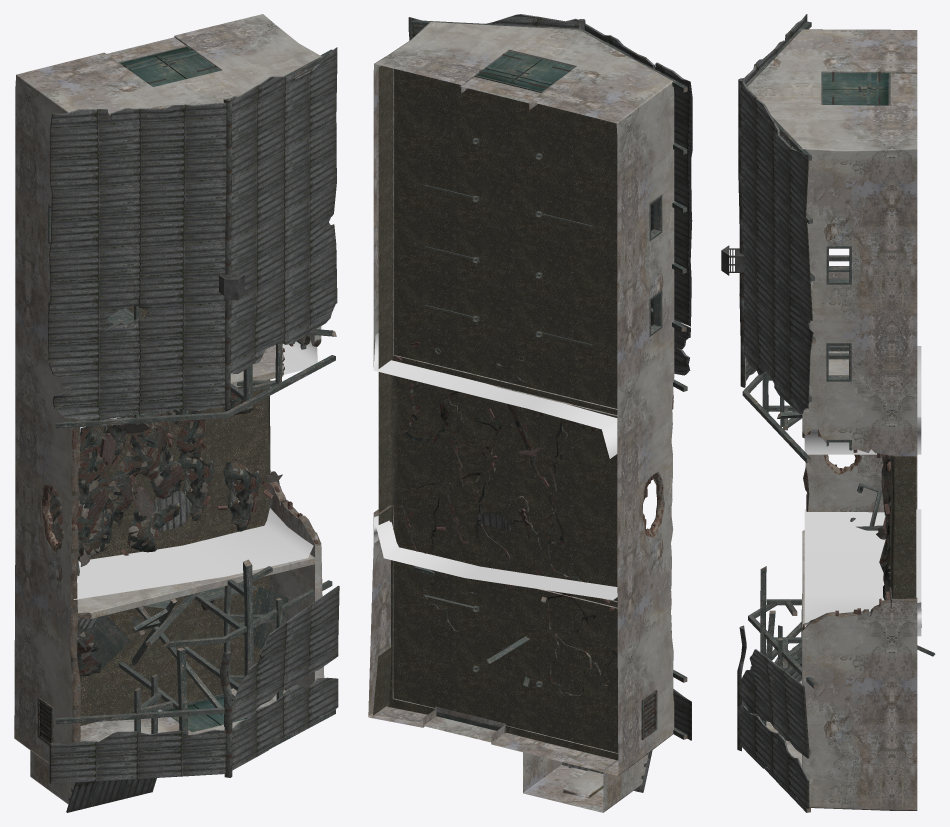
File: hd_bld_SU_001_Piggaery.glb
3 renders of one model, left to right at view 1: azimuth 30°, elevation 25°; view 2: azimuth 150°, elevation 25°; view 3: azimuth 270°, elevation 25°, orthographic.
Parts seen in each view (by area): view 1: set_0_group_1, set_0_group_0; view 2: set_0_group_1, set_0_group_0; view 3: set_0_group_1, set_0_group_0.
Boxes of the visible parts, <box> form: set_0_group_1: <box>14,14,339,812</box>; set_0_group_0: <box>73,340,317,599</box>; set_0_group_1: <box>368,14,692,812</box>; set_0_group_0: <box>373,333,617,599</box>; set_0_group_1: <box>721,14,935,812</box>; set_0_group_0: <box>804,345,921,636</box>.
Bounding box in the file's own units: 15.33 × 36.56 × 9.91.
2 materials, 1 textured.
